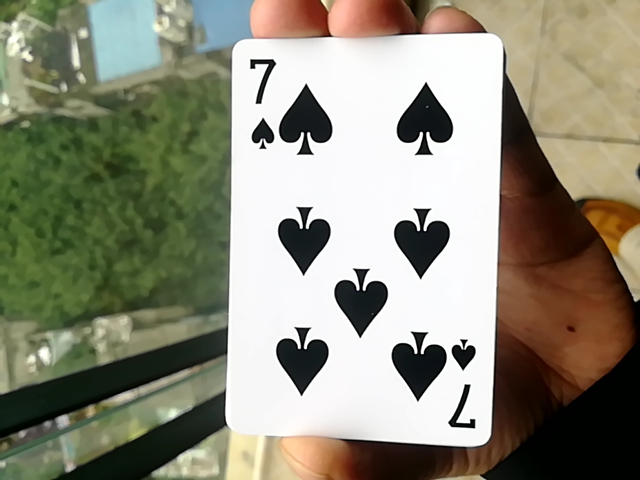ht 7: (227, 19, 493, 460)
